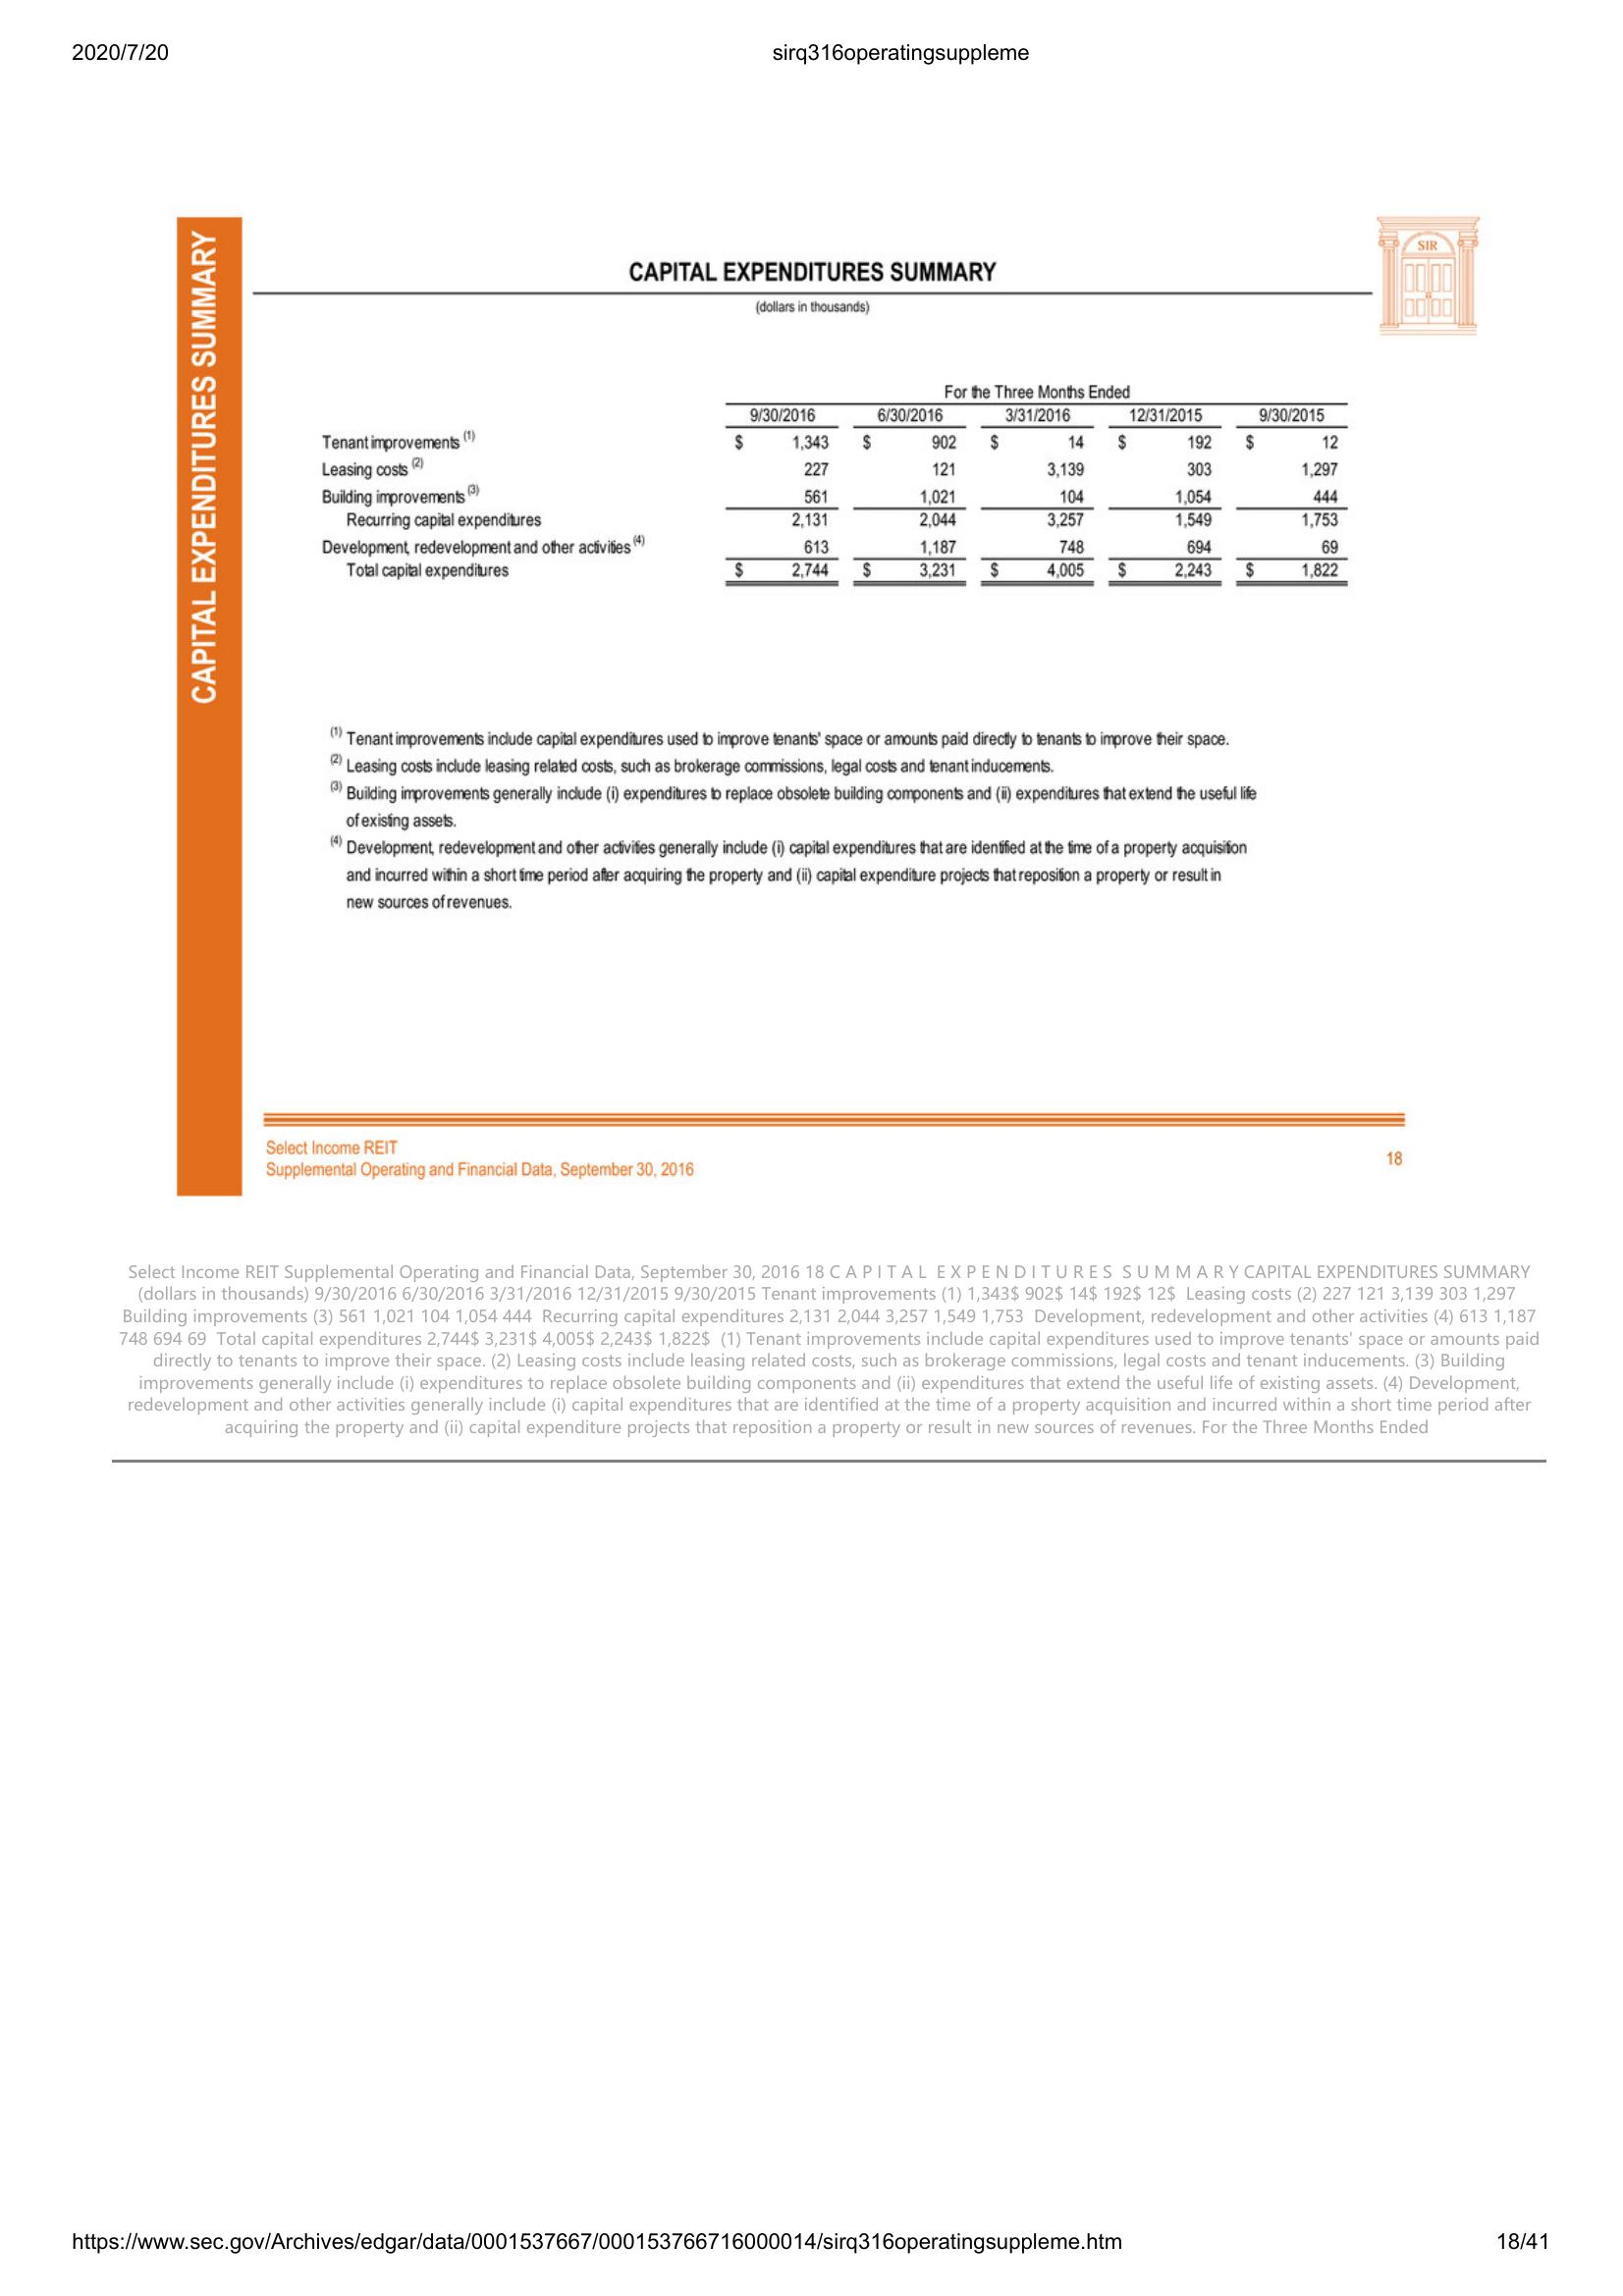table: (318, 376, 1363, 600)
